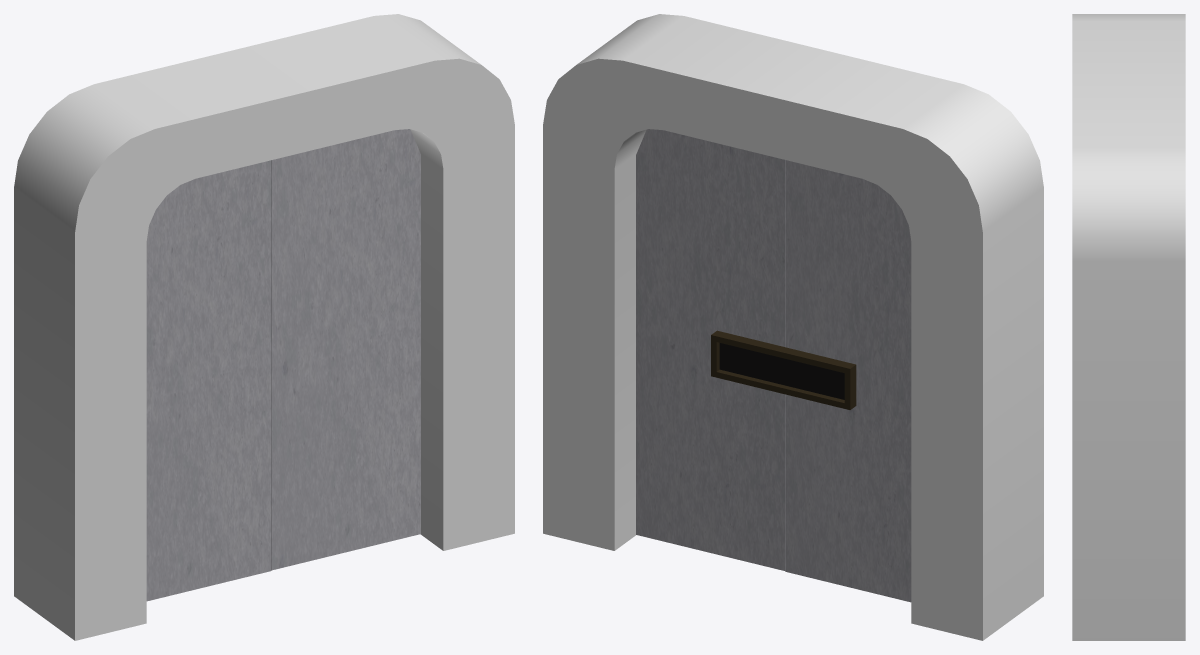
File: door 1.fbx
The picture shows the model from 3 angles, left to right: view 1: azimuth 30°, elevation 25°; view 2: azimuth 150°, elevation 25°; view 3: azimuth 270°, elevation 25°; orthographic projection. The views are drawn at different scales.
Visible parts, largest first — view 1: Cube.001, doorleft.001, doorright.001; view 2: Cube.001, doorleft.001, doorright.001, Cube; view 3: Cube.001.
Part boxes in pixels (bbox=[...]): Cube.001: bbox=[14, 14, 514, 640]; doorleft.001: bbox=[271, 129, 420, 570]; doorright.001: bbox=[146, 160, 271, 601]; Cube.001: bbox=[543, 14, 1043, 640]; doorleft.001: bbox=[636, 129, 785, 570]; doorright.001: bbox=[785, 160, 911, 602]; Cube: bbox=[711, 330, 856, 409]; Cube.001: bbox=[1072, 14, 1185, 640].
Bounding box in the file's own units: 296 × 317 × 71.32.
Materials: 4 (1 with a texture image).
